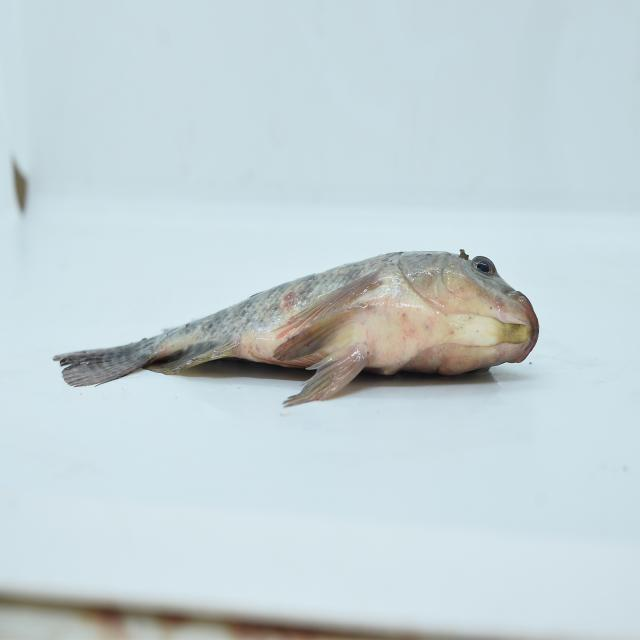Columnaris Disease: (52, 231, 563, 403)
